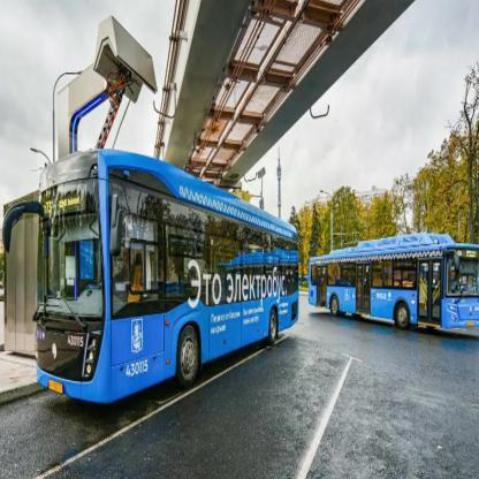bus: (2, 141, 301, 416), (309, 234, 479, 333)
